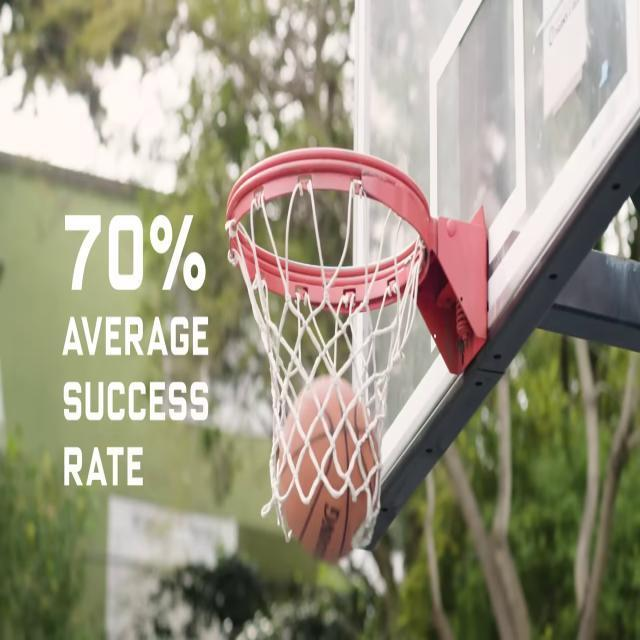Goal: (278, 374, 377, 557)
